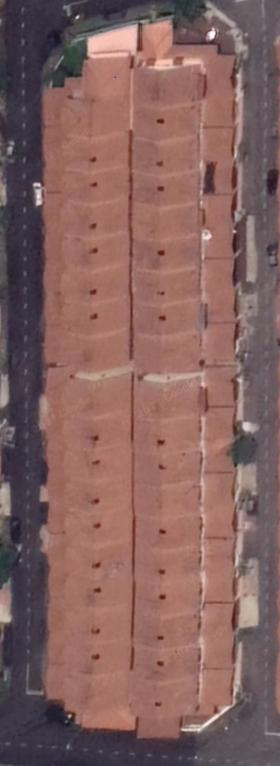building: (36, 49, 133, 144), (58, 675, 138, 731), (129, 681, 198, 742), (60, 335, 132, 384), (133, 334, 202, 385), (135, 63, 206, 111), (62, 376, 131, 423), (134, 379, 202, 425), (58, 137, 129, 179), (60, 267, 131, 309), (131, 139, 202, 181), (60, 446, 132, 487), (60, 237, 131, 278), (133, 301, 202, 343), (134, 417, 202, 459), (62, 545, 133, 585), (64, 511, 134, 551), (59, 303, 130, 342), (133, 106, 202, 146), (134, 580, 201, 621), (60, 203, 130, 242), (130, 206, 200, 245), (133, 452, 203, 491), (62, 169, 130, 209), (133, 614, 201, 654), (131, 648, 199, 688), (60, 416, 131, 454), (131, 238, 201, 276), (63, 609, 132, 647), (131, 175, 200, 213), (133, 485, 202, 523), (131, 273, 200, 310), (135, 549, 202, 587), (62, 644, 132, 680), (62, 482, 133, 517), (135, 518, 202, 555), (64, 579, 133, 613)
